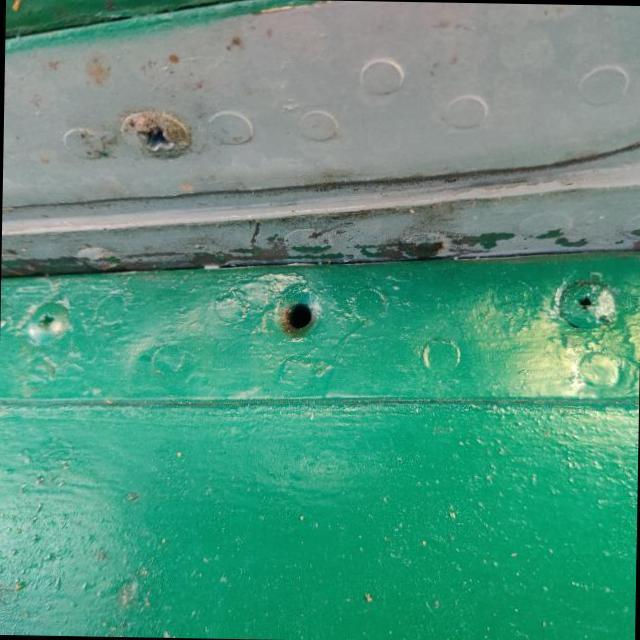Fastener Damage: (246, 267, 346, 370)
